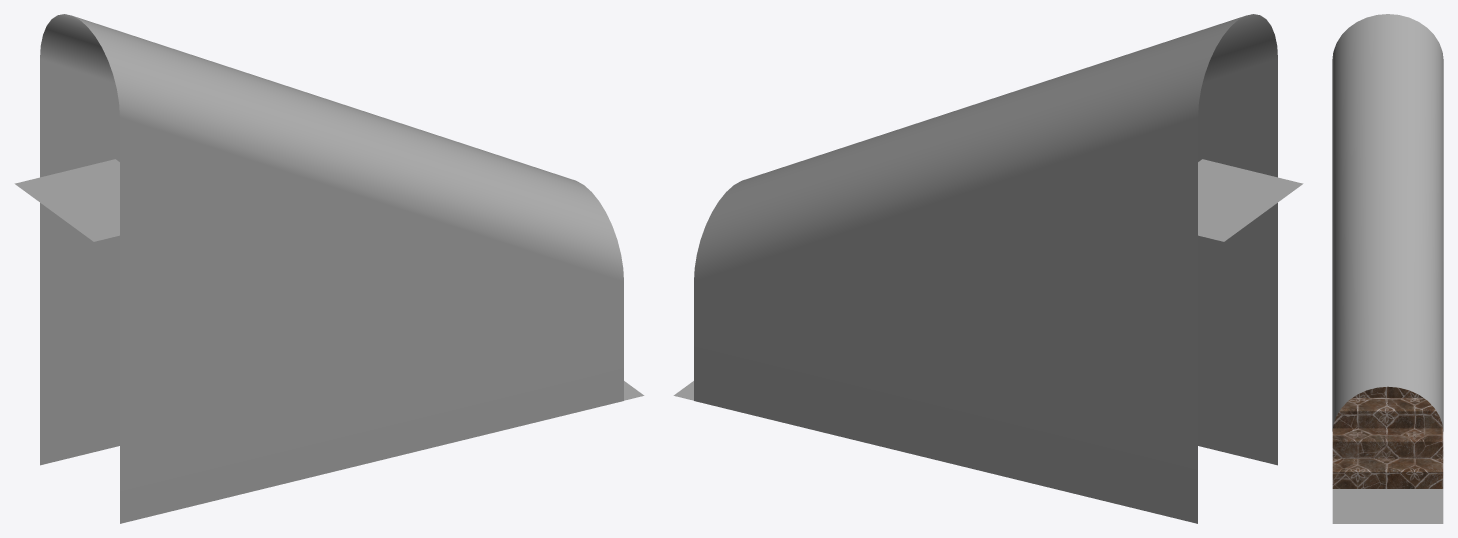
Rendered from FBX_Stairway.fbx.
The picture shows the model from 3 angles, left to right: view 1: azimuth 30°, elevation 25°; view 2: azimuth 150°, elevation 25°; view 3: azimuth 270°, elevation 25°; orthographic projection. The views are drawn at different scales.
Parts seen in each view (by area): view 1: Ceiling, Stairs; view 2: Ceiling, Stairs; view 3: Ceiling, Stairs.
Boxes of the visible parts, <box> form: Ceiling: <box>40,14,623,523</box>; Stairs: <box>14,159,644,400</box>; Ceiling: <box>694,14,1277,523</box>; Stairs: <box>673,159,1303,400</box>; Ceiling: <box>1332,14,1443,431</box>; Stairs: <box>1332,386,1443,523</box>.
Size of the model in its own units: 1000 by 824 by 251.
Materials: 2 (1 with a texture image).
